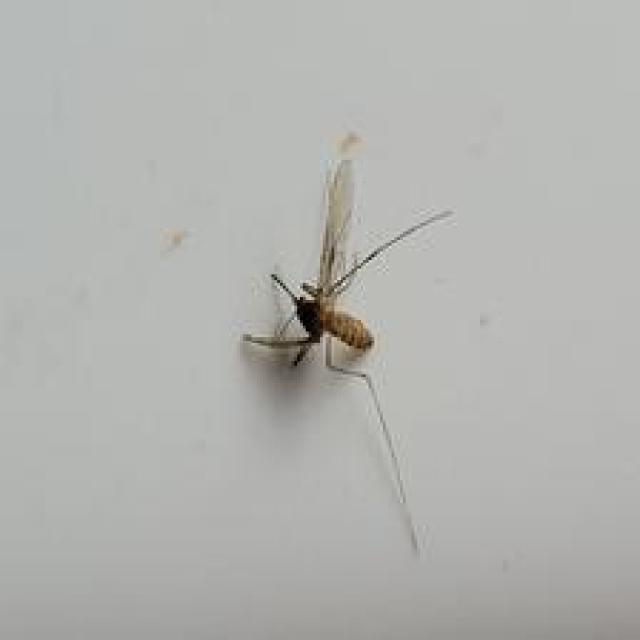Culex: (240, 130, 454, 553)
